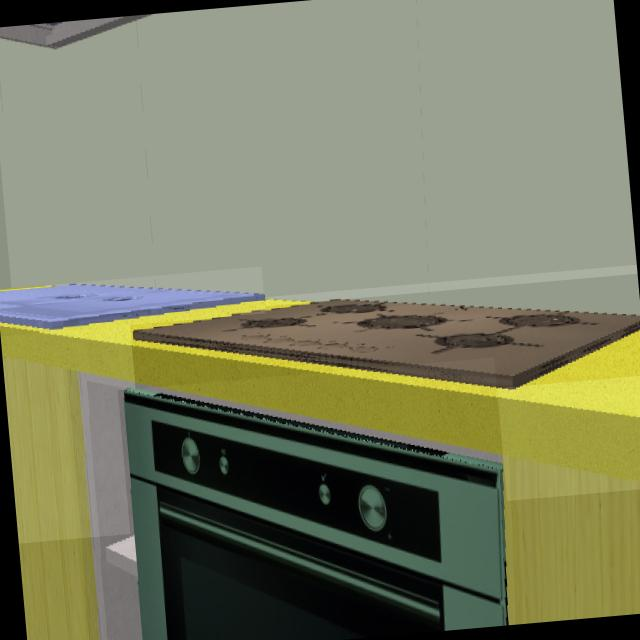countertop: (0, 298, 640, 484)
oven: (122, 389, 507, 640)
sink: (0, 285, 264, 331)
stove: (131, 300, 640, 386)
